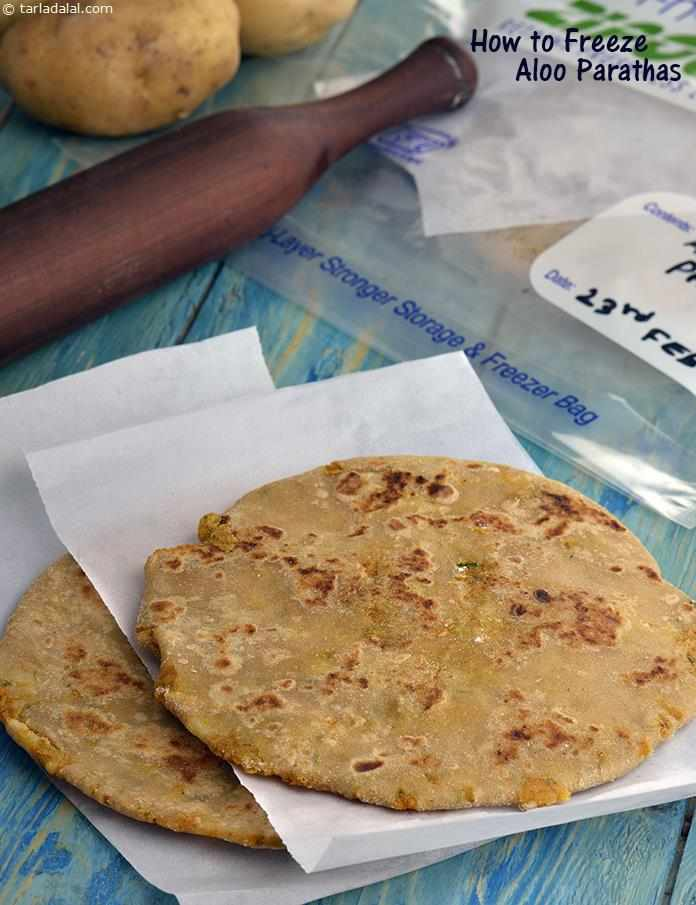aloo_paratha: (5, 457, 696, 860)
